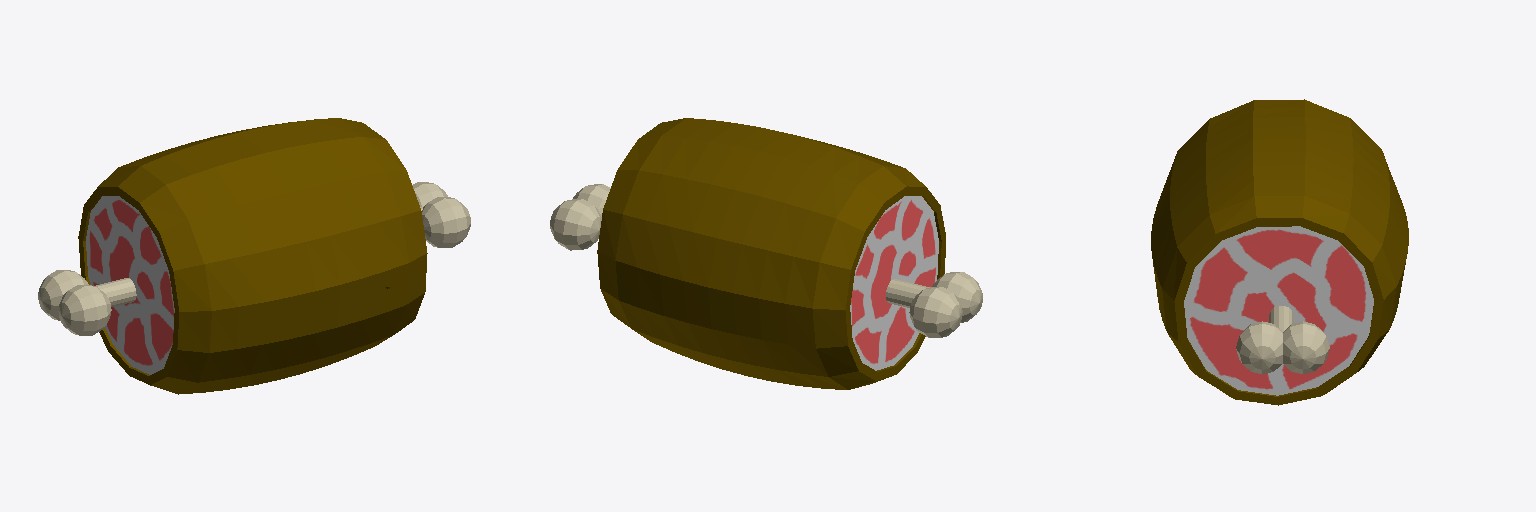
3 views of the same model, side by side, from view 1: azimuth 30°, elevation 25°; view 2: azimuth 150°, elevation 25°; view 3: azimuth 270°, elevation 25° (orthographic).
Parts seen in each view (by area): view 1: Cylinder003; view 2: Cylinder003; view 3: Cylinder003.
Part boxes in pixels (left/top/right/bottom): Cylinder003: left=38, top=118, right=470, bottom=394; Cylinder003: left=550, top=118, right=982, bottom=389; Cylinder003: left=1151, top=99, right=1408, bottom=405.
Bounding box in the file's own units: 3.25 × 1.76 × 1.79.
Materials: 1 (1 with a texture image).